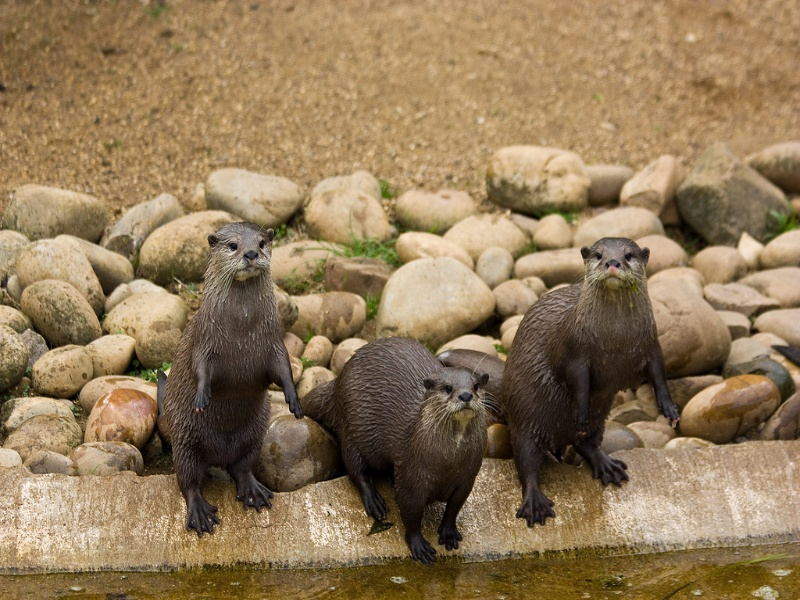minkish: (120, 217, 302, 537), (485, 238, 682, 530), (298, 326, 489, 562)
